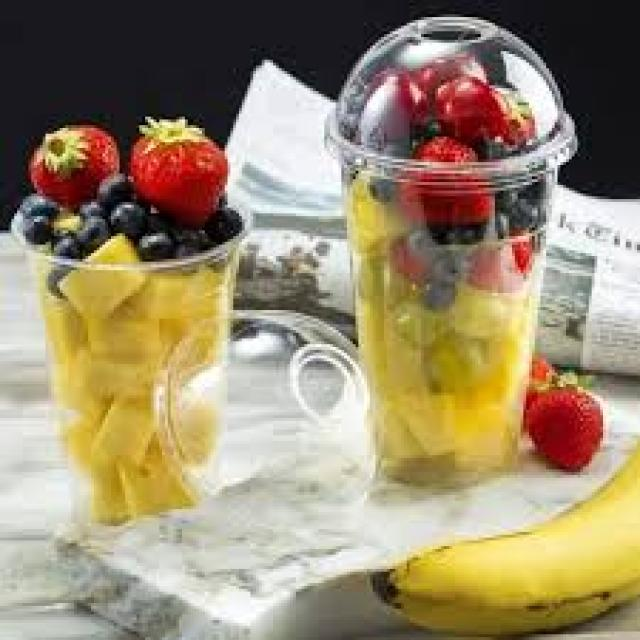bottle: (338, 139, 554, 482), (25, 235, 242, 523)
